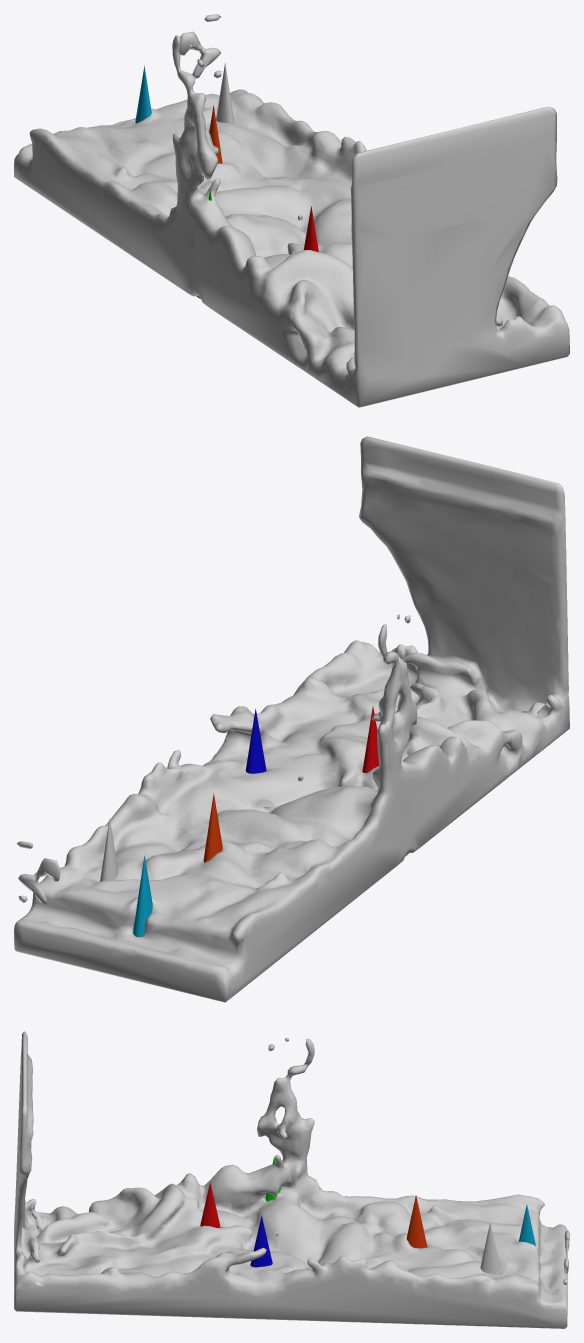
3 renders of one model, top to bottom at view 1: azimuth 30°, elevation 25°; view 2: azimuth 150°, elevation 25°; view 3: azimuth 270°, elevation 25°, orthographic. The views are drawn at different scales.
Parts seen in each view (by area): view 1: Liquid_Domain, 円錐, 円錐.005; view 2: Liquid_Domain, 円錐.005, 円錐.002; view 3: Liquid_Domain, 円錐.004, 円錐, 円錐.002, 円錐.001.
Boxes of the visible parts, left/top/right/bottom form: Liquid_Domain: left=14, top=14, right=569, bottom=407; 円錐: left=216, top=63, right=234, bottom=123; 円錐.005: left=135, top=65, right=151, bottom=123; Liquid_Domain: left=14, top=436, right=569, bottom=1002; 円錐.005: left=133, top=855, right=152, bottom=937; 円錐.002: left=245, top=709, right=266, bottom=773; Liquid_Domain: left=14, top=1031, right=569, bottom=1328; 円錐.004: left=406, top=1195, right=427, bottom=1248; 円錐: left=480, top=1222, right=500, bottom=1273; 円錐.002: left=250, top=1216, right=272, bottom=1267; 円錐.001: left=200, top=1182, right=220, bottom=1227.
Bounding box in the file's own units: 129 × 158 × 363.
